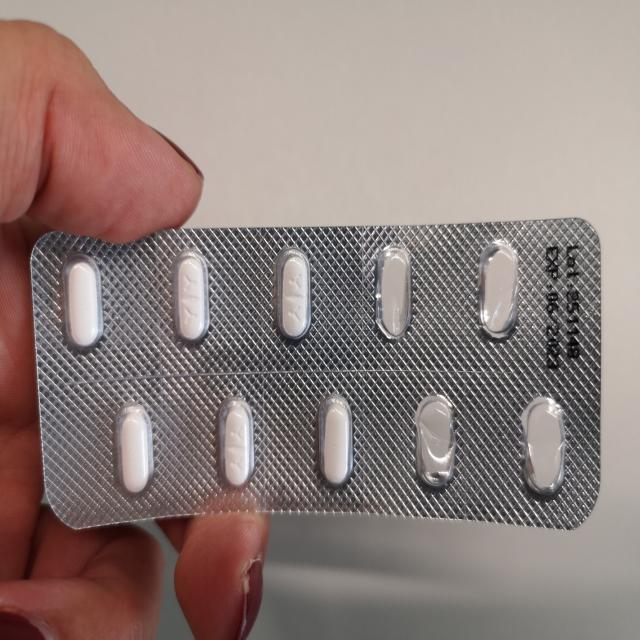Empty: (474, 234, 524, 345), (518, 394, 569, 500), (409, 389, 459, 495), (372, 242, 415, 344)
Pill: (57, 253, 109, 355), (272, 244, 316, 348), (109, 399, 155, 497), (170, 248, 214, 348), (315, 390, 357, 492), (213, 393, 256, 492)
